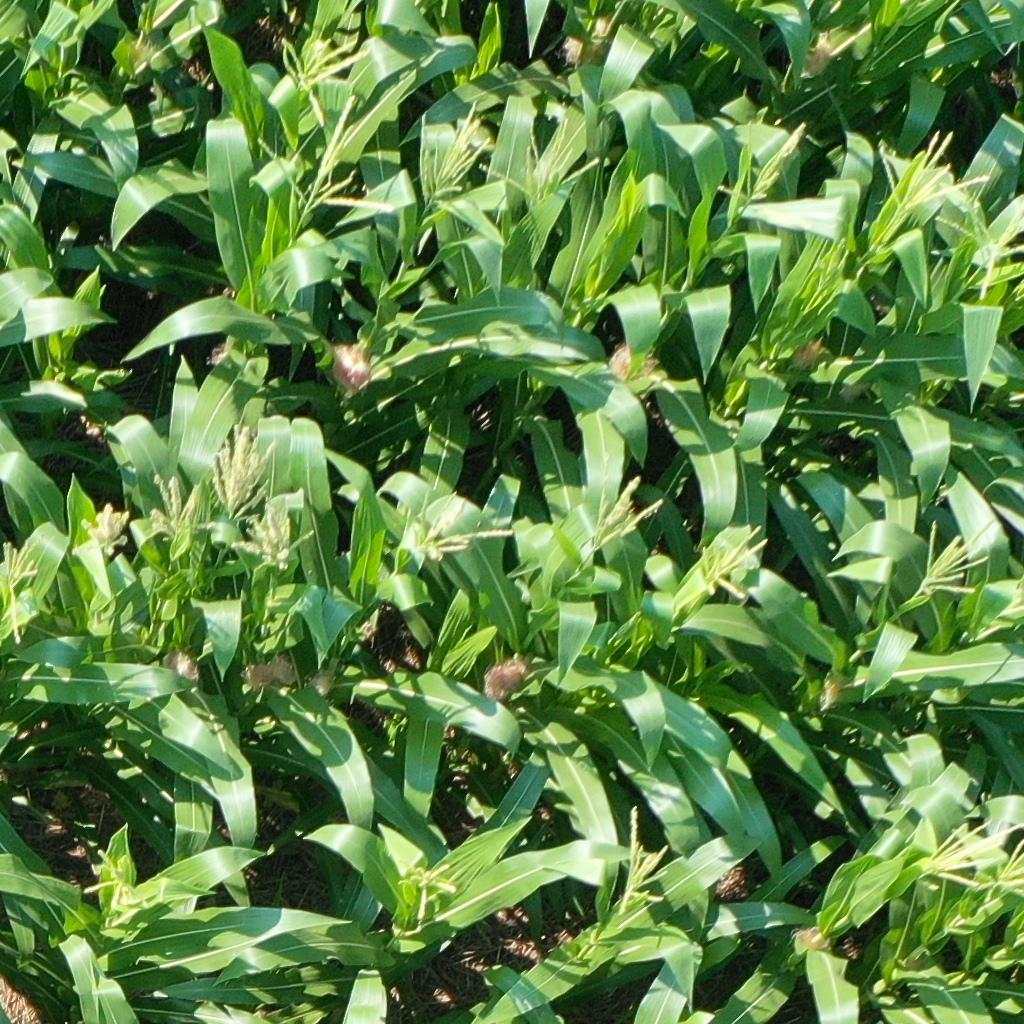Tassel: (254, 93, 398, 223), (477, 114, 609, 199), (932, 188, 1024, 300), (875, 127, 993, 212), (404, 485, 526, 562), (914, 815, 1024, 892), (276, 31, 368, 121), (717, 115, 810, 204), (408, 99, 493, 196), (914, 513, 1001, 598), (206, 422, 275, 522), (614, 803, 672, 915), (585, 474, 665, 549), (235, 502, 318, 574), (700, 523, 771, 605), (1, 536, 42, 650), (143, 469, 209, 534), (81, 847, 142, 915), (72, 499, 139, 558), (975, 836, 1024, 903), (405, 861, 457, 919), (997, 585, 1024, 621), (616, 609, 644, 638)
